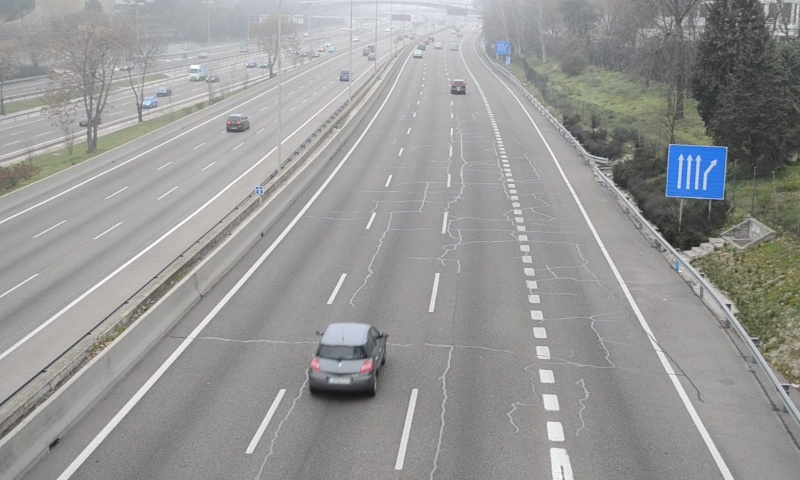car: (310, 324, 385, 393), (450, 80, 466, 94)
